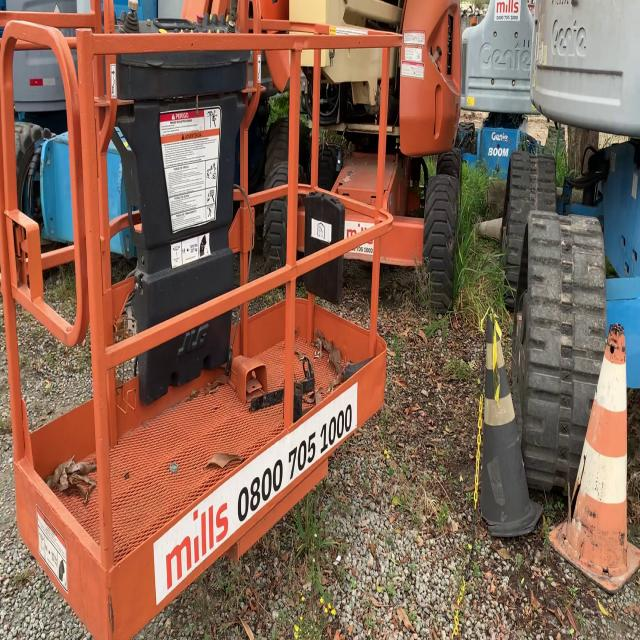Adesivo Longo: (150, 374, 360, 611)
